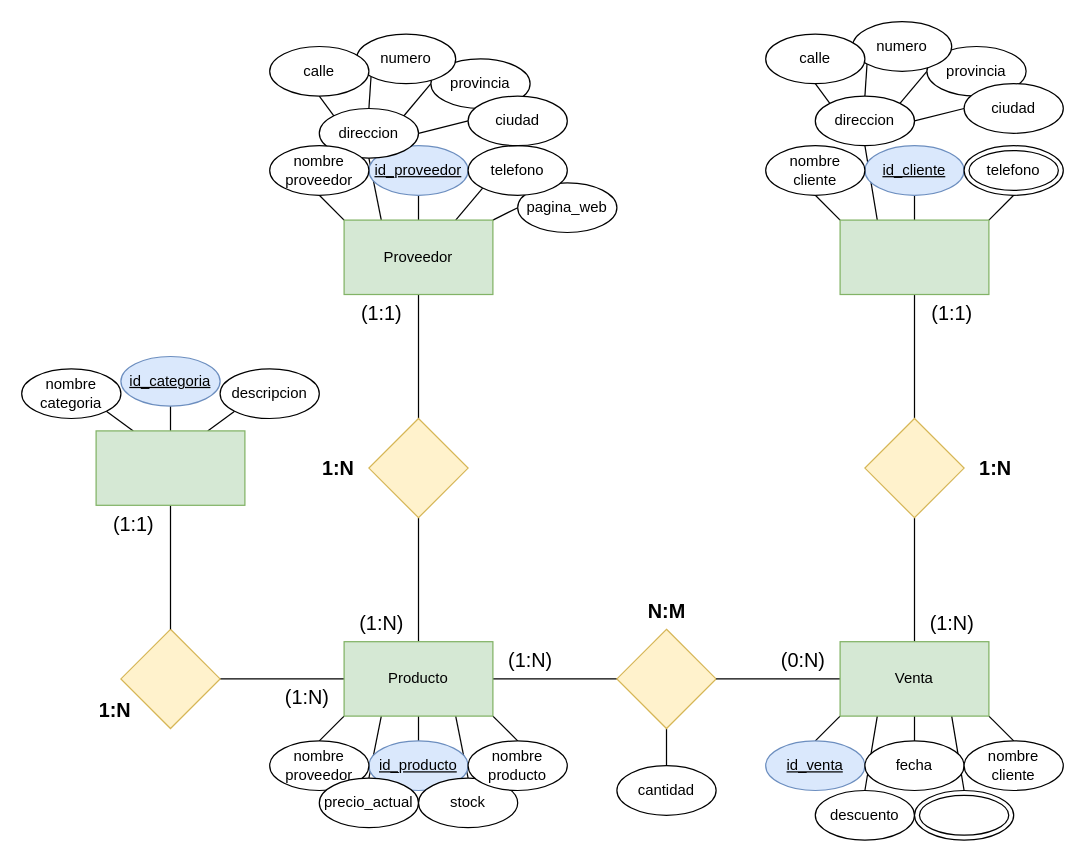
The diagram is 1085 pixels wide and 862 high, and some of its shapes have lost their labels. Here are the shapes that lost their labels. From the top down, the centre of each, then its label:
At pixel 914 256: "Cliente".
At pixel 170 467: "Categoria".
At pixel 418 467: "proveer".
At pixel 914 467: "comprar".
At pixel 170 678: "organizar".
At pixel 666 678: "registrar".
At pixel 963 814: "monto_final".
